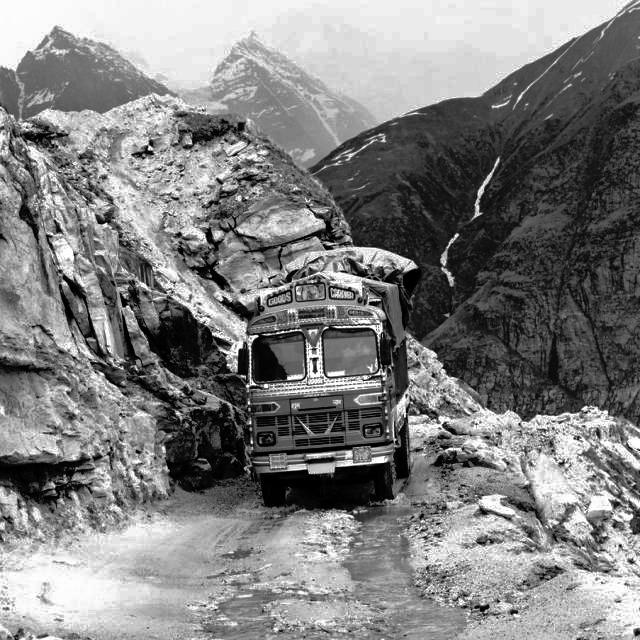HCV: (231, 226, 433, 532)
